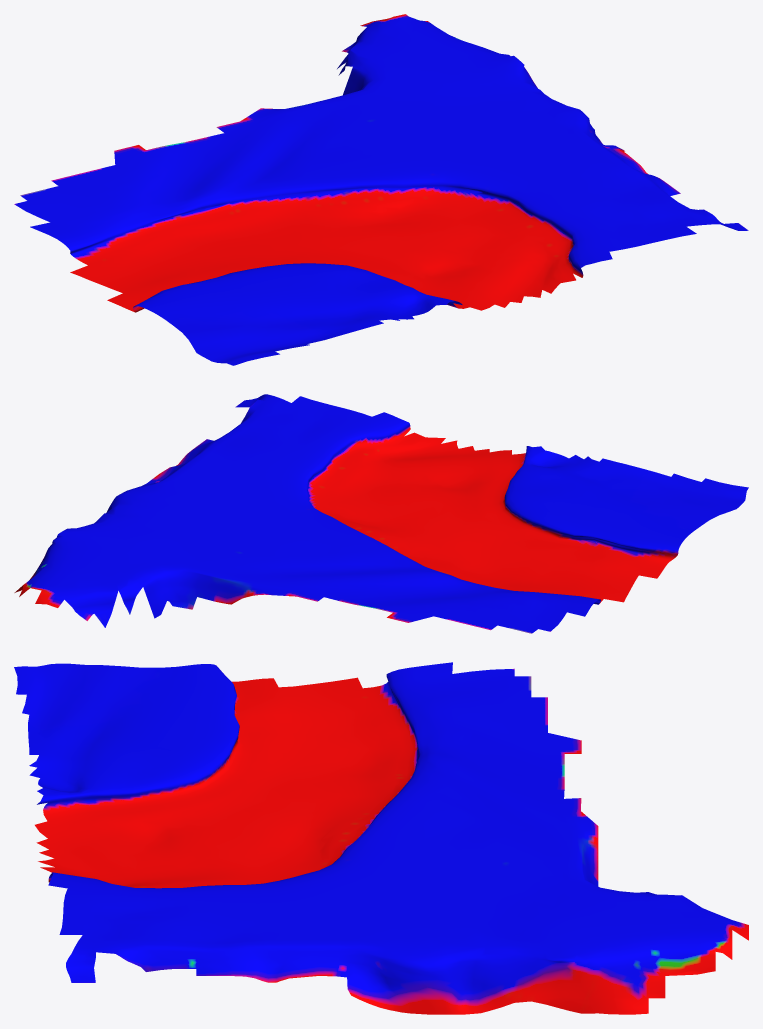
File: split3.fbx
The picture shows the model from 3 angles, top to bottom: view 1: azimuth 30°, elevation 25°; view 2: azimuth 150°, elevation 25°; view 3: azimuth 270°, elevation 25°; orthographic projection. The views are drawn at different scales.
Parts seen in each view (by area): view 1: Retopo_Plane.004; view 2: Retopo_Plane.004; view 3: Retopo_Plane.004.
Part boxes in pixels (x1=…): Retopo_Plane.004: x1=14, y1=14, x2=748, y2=365; Retopo_Plane.004: x1=14, y1=394, x2=748, y2=633; Retopo_Plane.004: x1=14, y1=662, x2=748, y2=1014.
Size of the model in its own units: 337 by 25.42 by 343.
